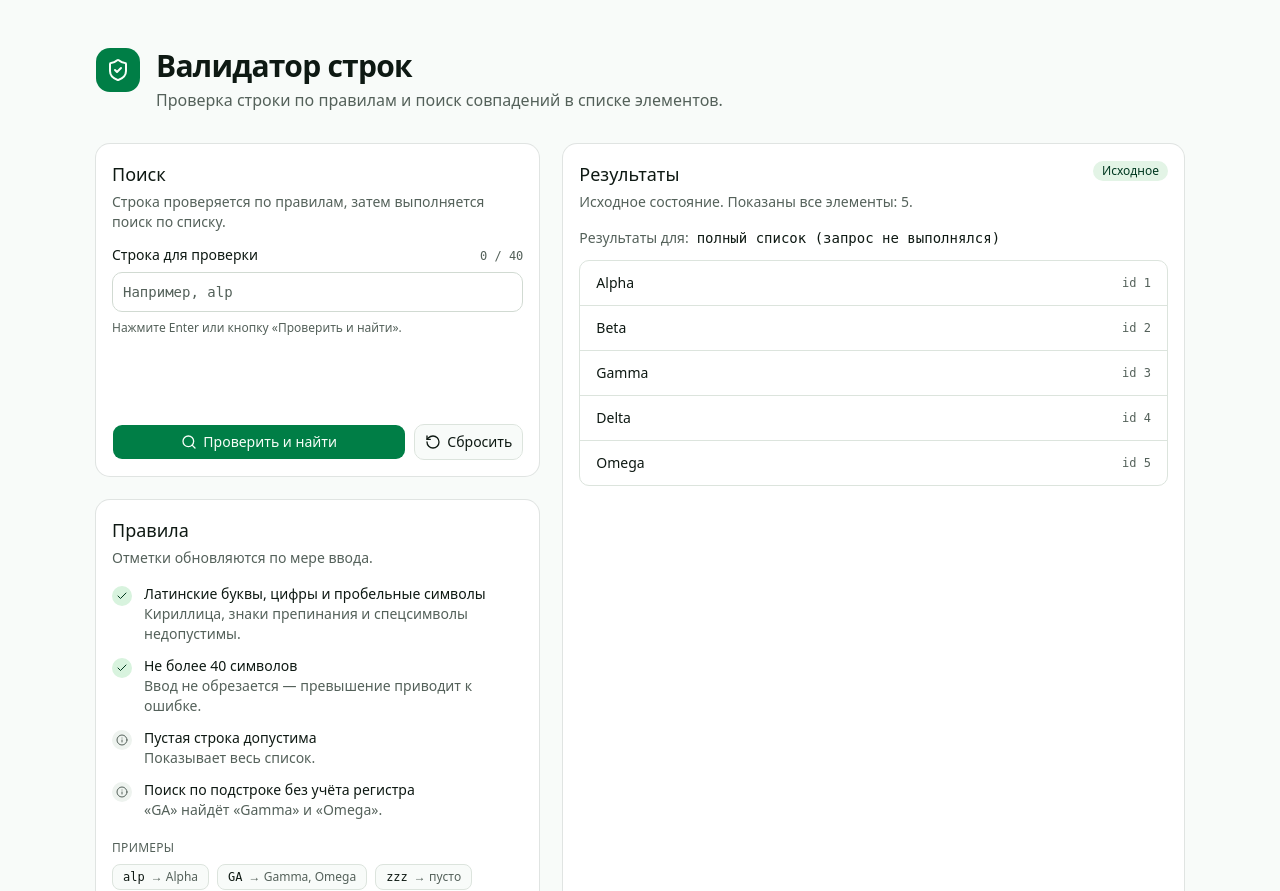
Test case: Валидация формы › rejects @@@ without sending a request and clears the old error on edit
Type "@@@" into the field labelled "Строка для проверки". click: coordinates (318, 292)
box: x1=112 y1=272 x2=523 y2=312
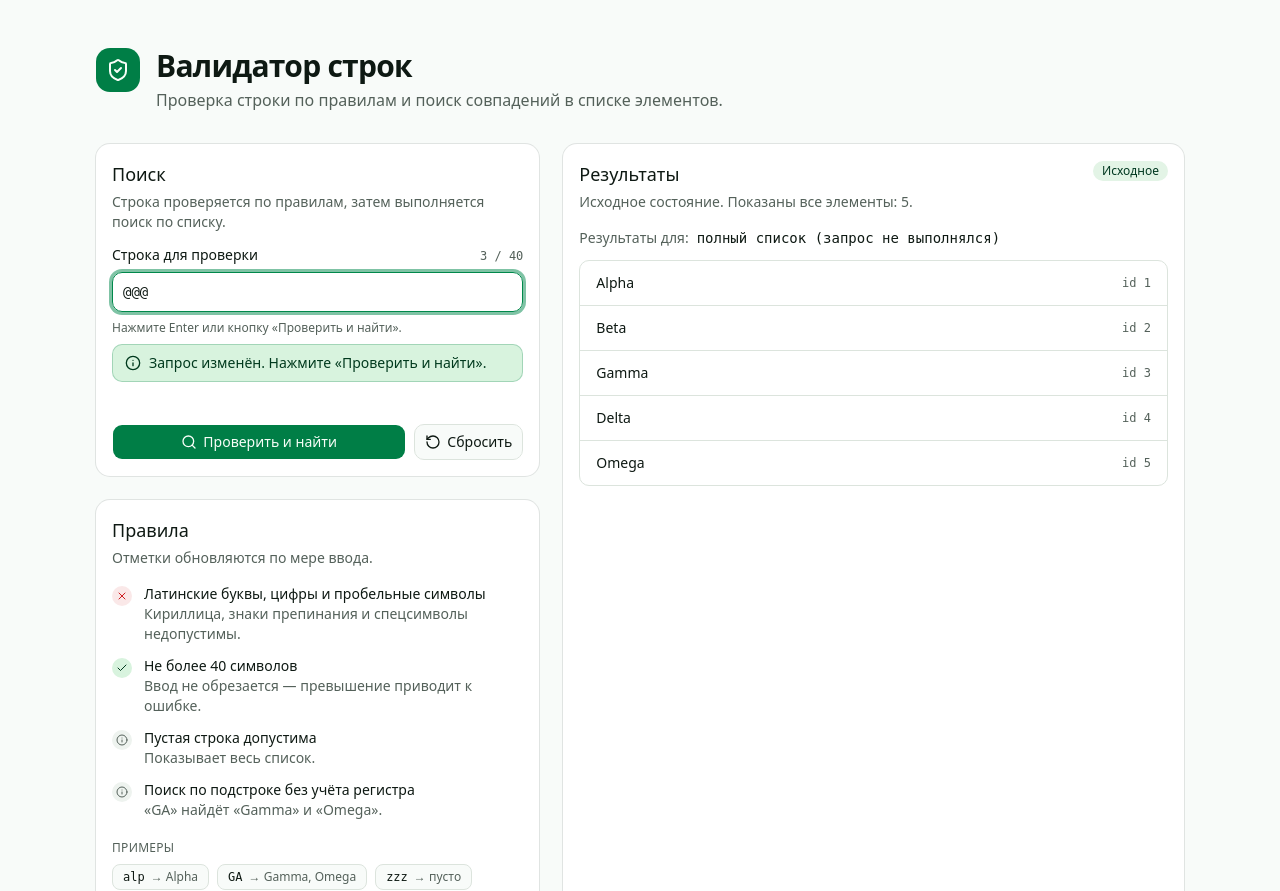
Click the button "Проверить и найти". click: coordinates (259, 442)
box: x1=112 y1=424 x2=406 y2=460
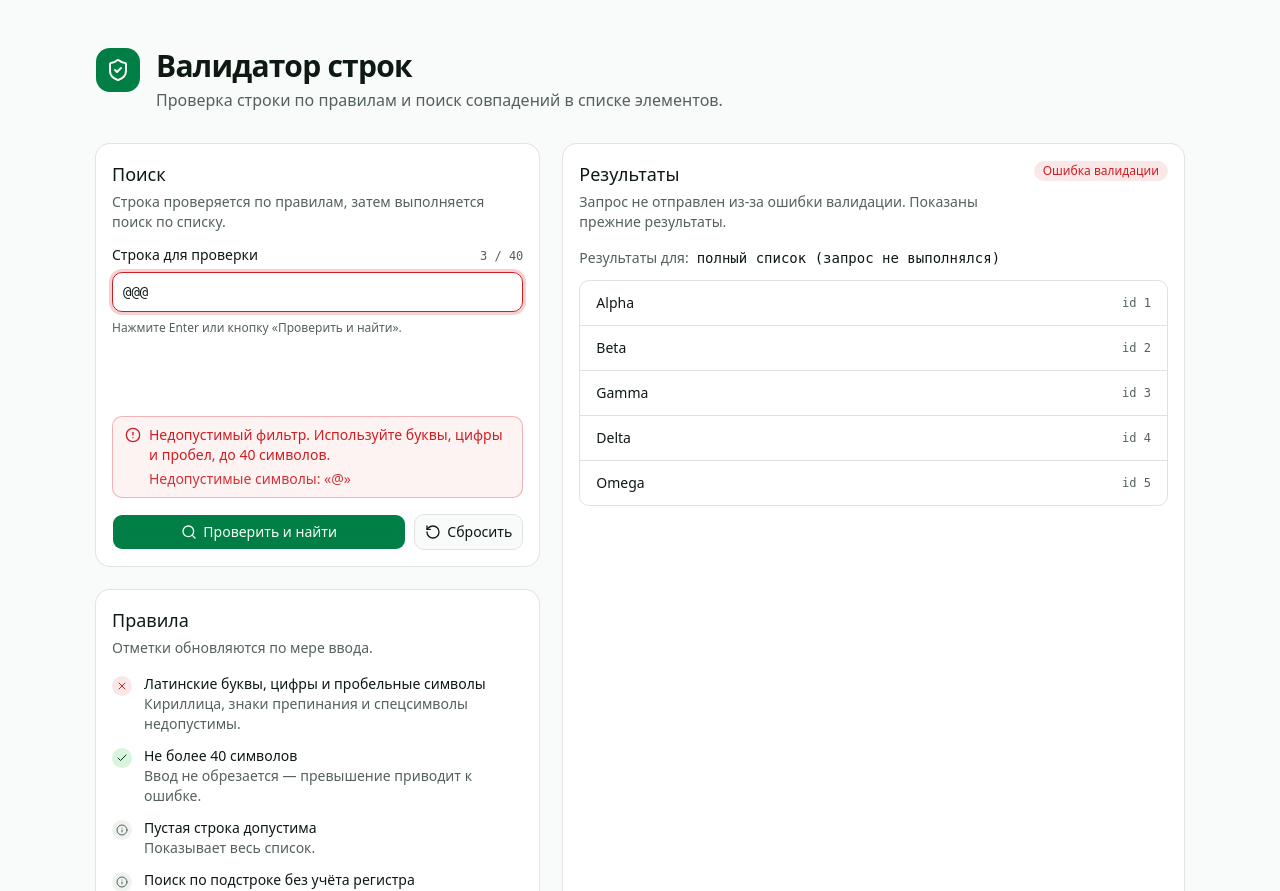
Check: the 3rd message shows "Недопустимый фильтр", box x1=149 y1=425 x2=503 y2=464
Clear the field labelled "Строка для проверки". click: coordinates (318, 292)
box: x1=112 y1=272 x2=523 y2=312
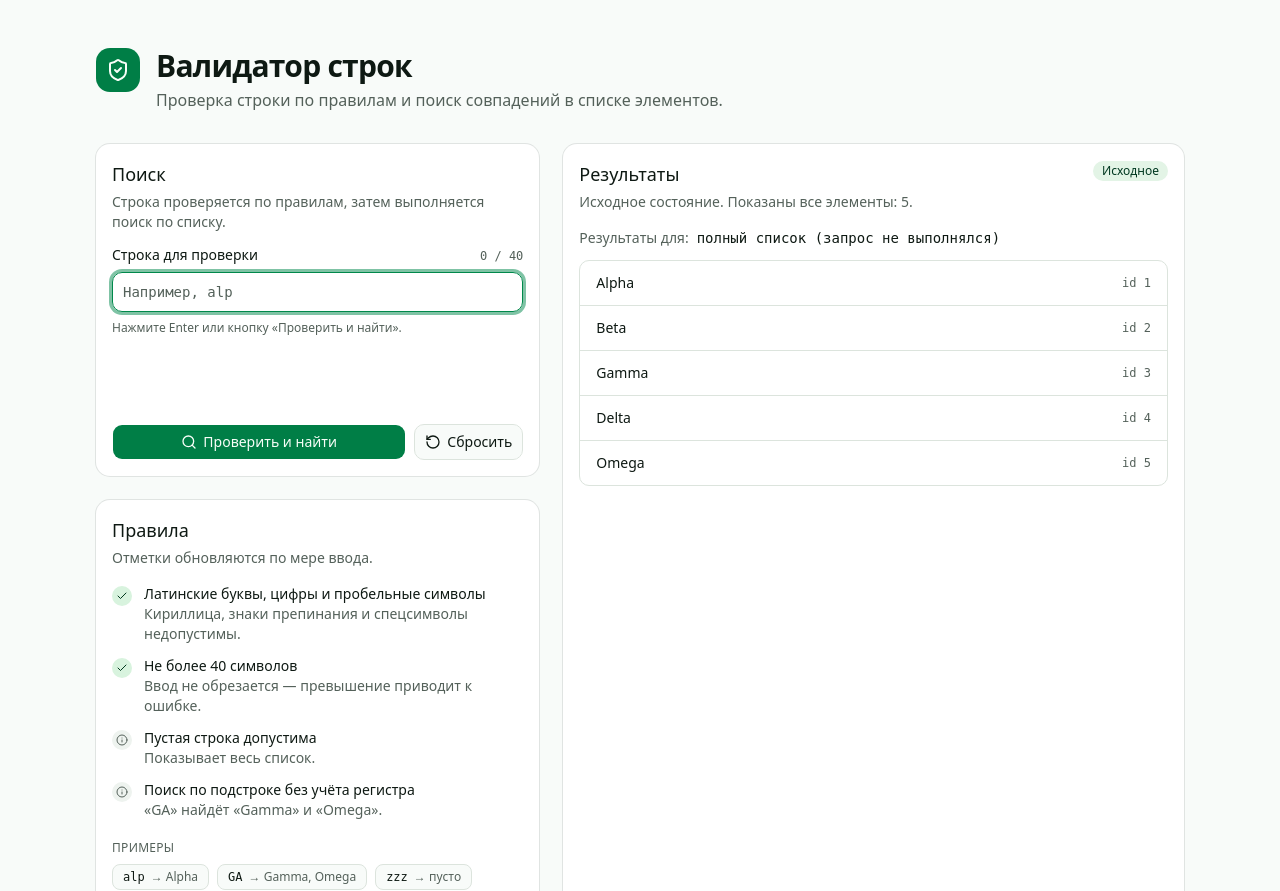
Check: the field labelled "Строка для проверки" does not have attribute aria-invalid="true", box x1=112 y1=272 x2=523 y2=312
